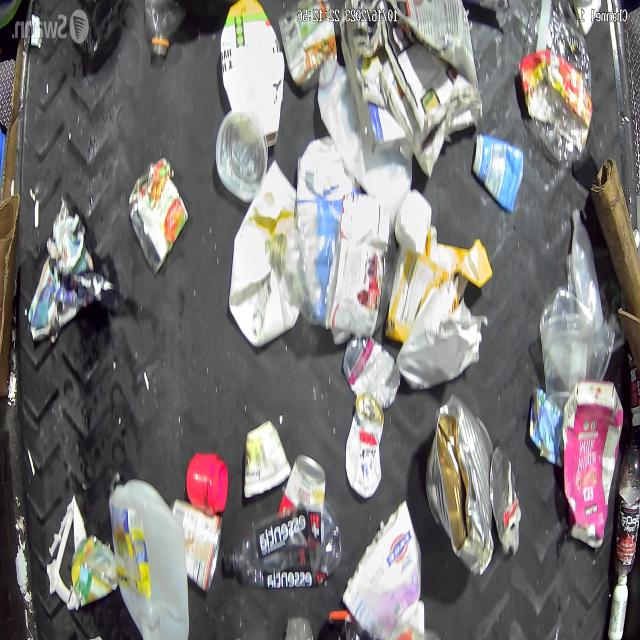can: (424, 394, 494, 577), (127, 162, 188, 274), (345, 392, 384, 499), (278, 454, 325, 517)
milk_jug: (317, 58, 412, 208), (108, 476, 188, 640)
non_white_jug: (561, 381, 624, 548)
plastic_bottle: (520, 8, 593, 171), (222, 504, 342, 588), (613, 436, 640, 576), (143, 0, 184, 57)
